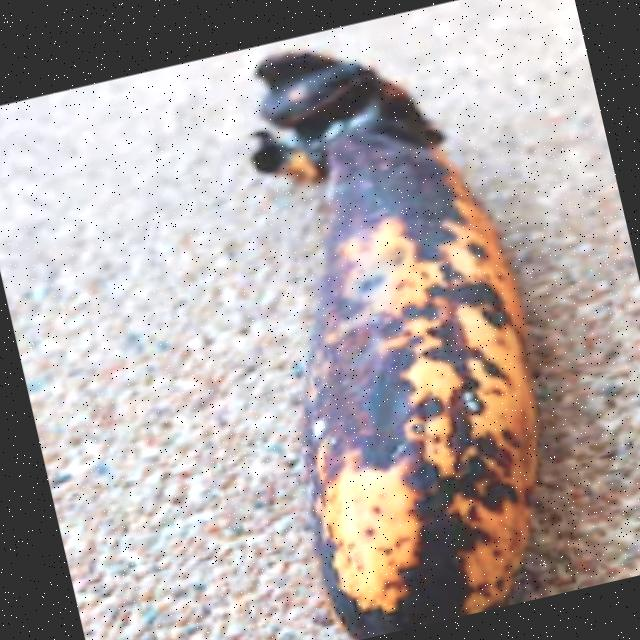Rotten: (153, 1, 619, 640)
